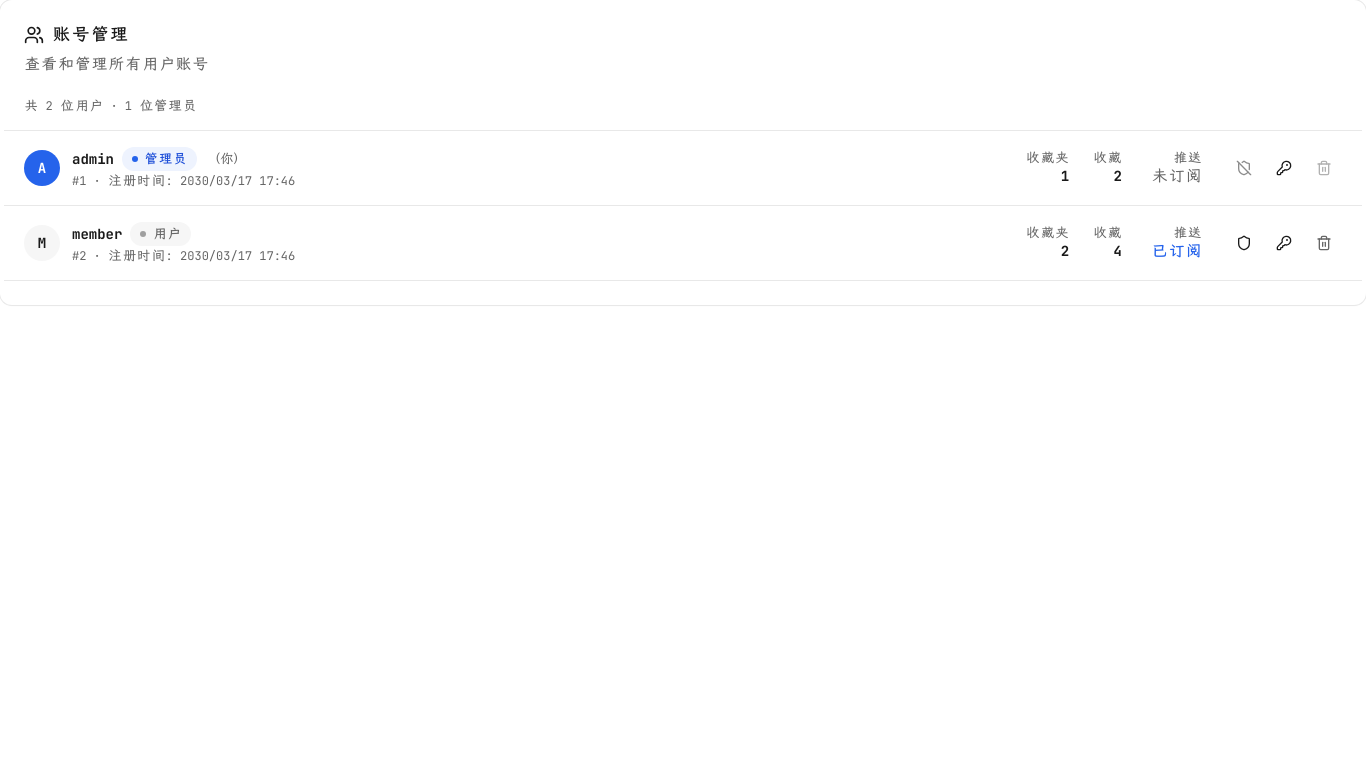
Test: administrator users › retries a failed password reset
This screenshot has width=1366, height=768.
Click the button named "重置 member 的密码" at (1284, 243), box [1266,225,1302,261]
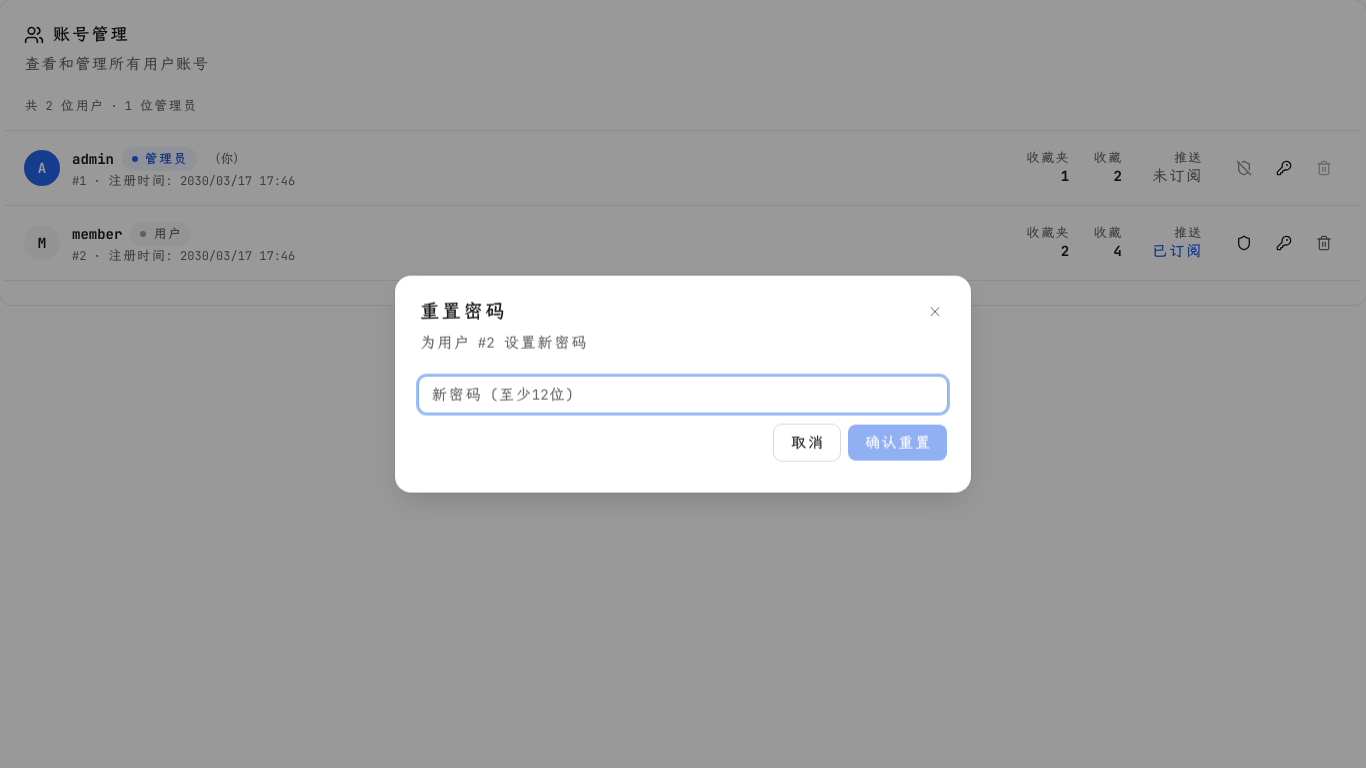
Type "replacement-password" into the password field labelled "新密码" at (683, 394), box [419,376,947,412]
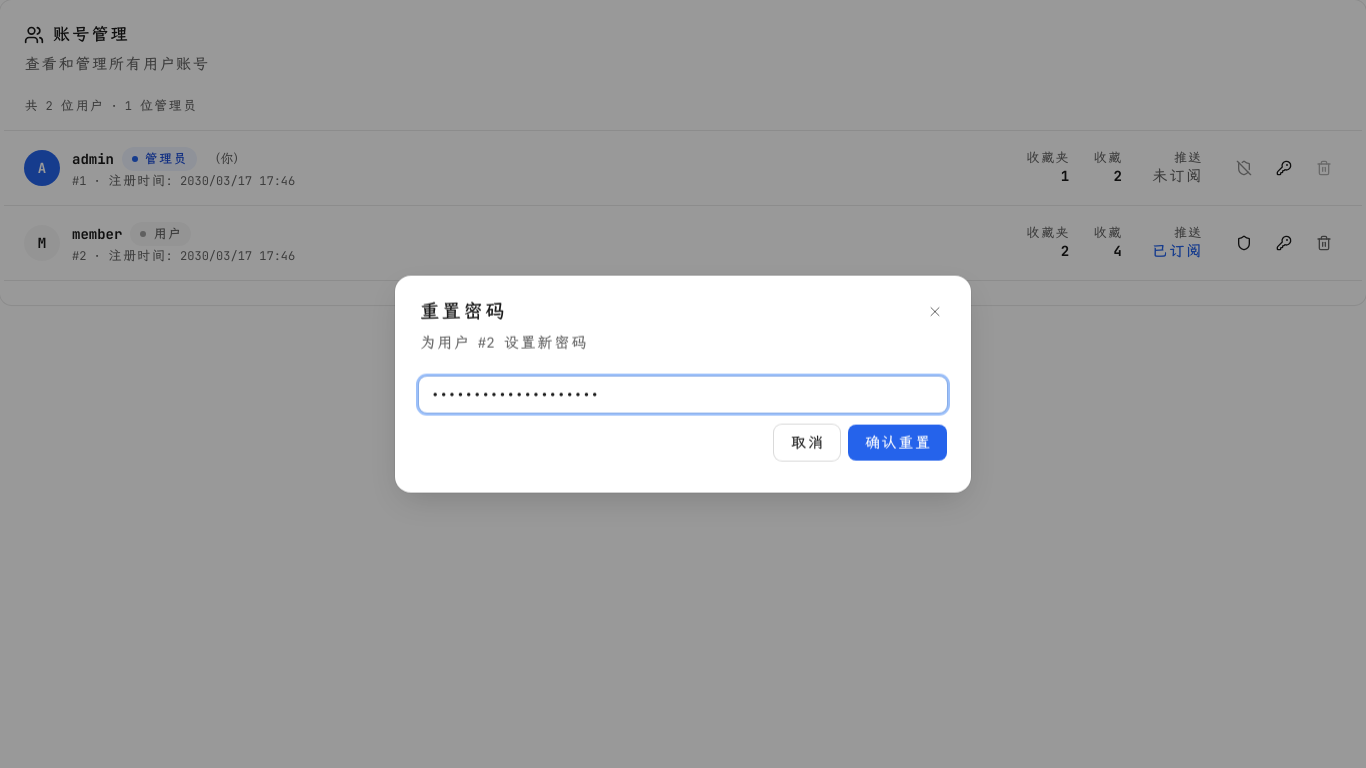
Click the button "确认重置" at (897, 442), box [848,424,947,460]
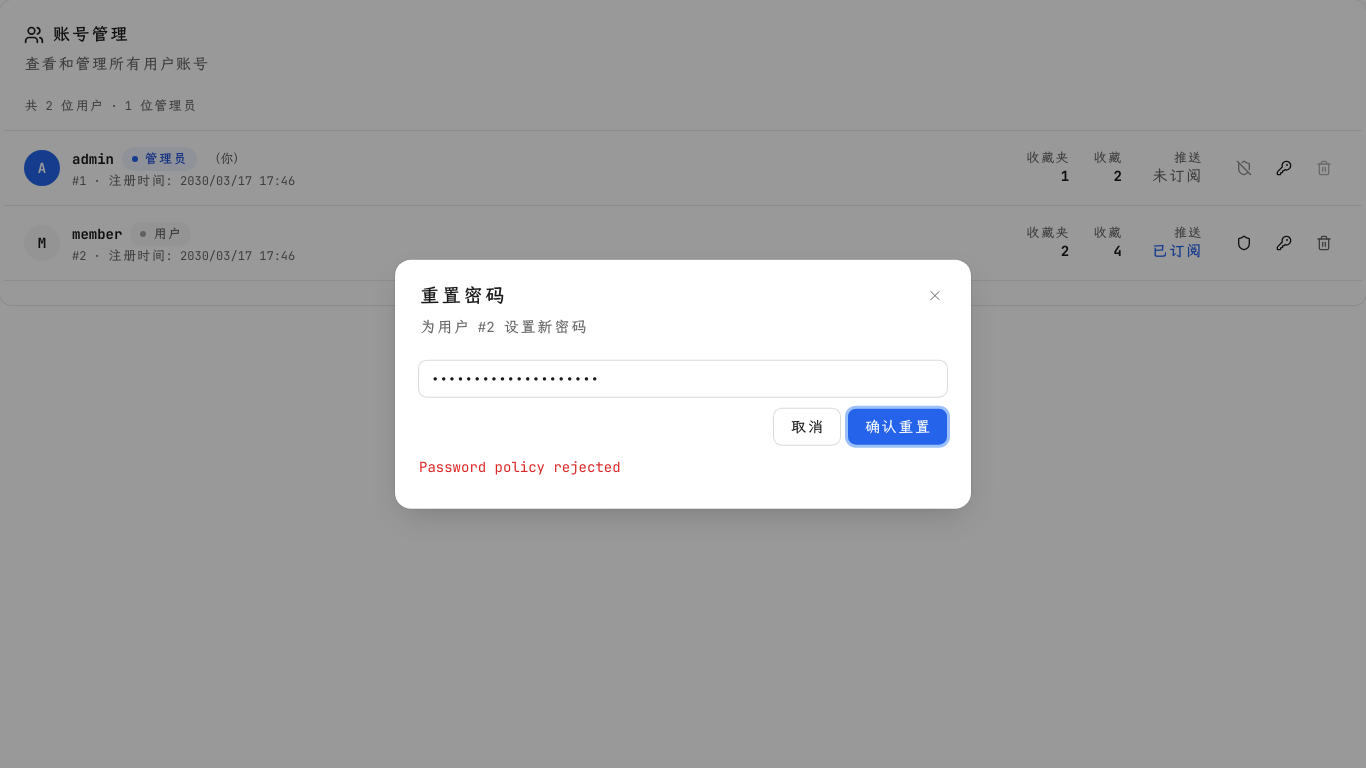
Expected: the message reads "Password policy rejected", [419,457,621,475]
Click the button "确认重置" at (897, 426), box [848,408,947,444]
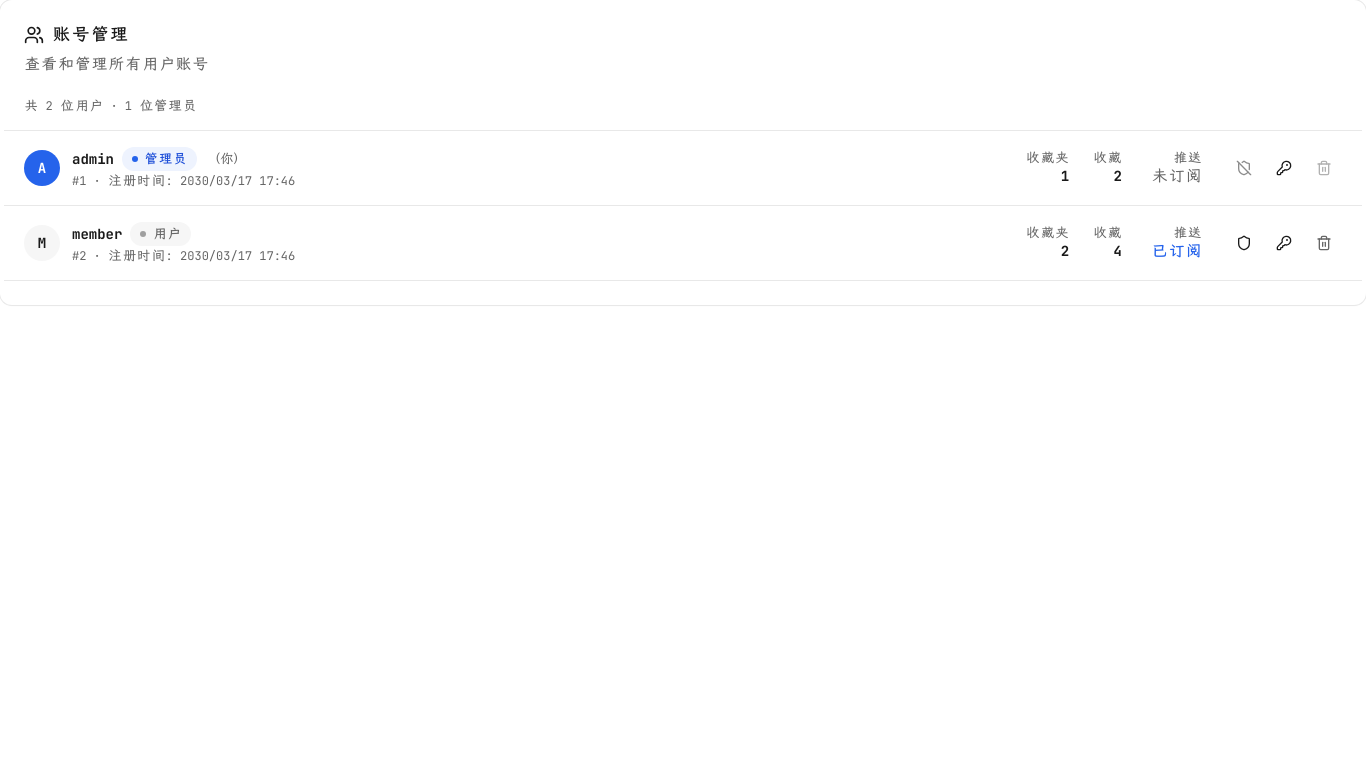
Expected: the heading "重置密码" is gone
